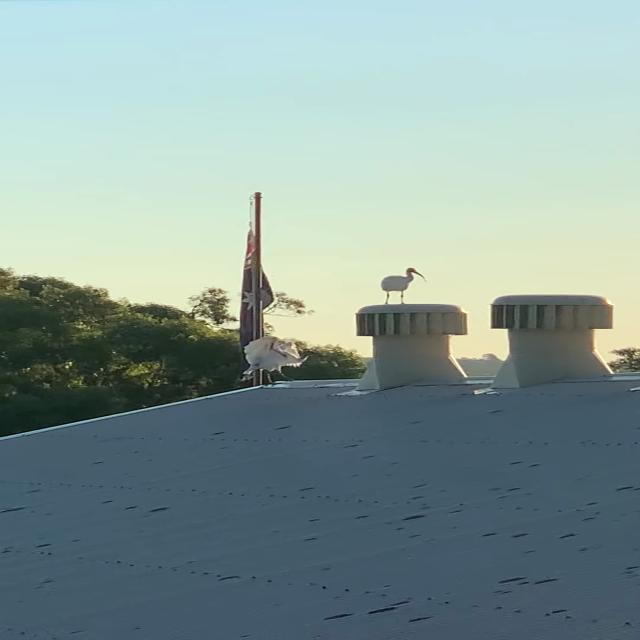Birds-Ibis: (237, 331, 311, 388), (376, 262, 432, 309)
